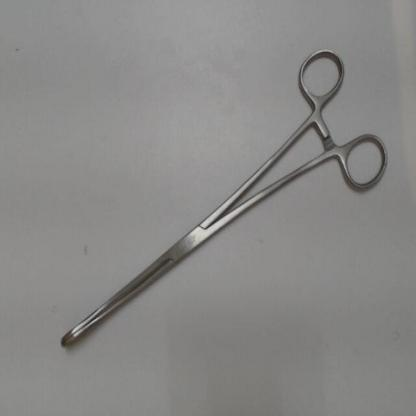Sponge Forceps: (52, 36, 394, 362)
